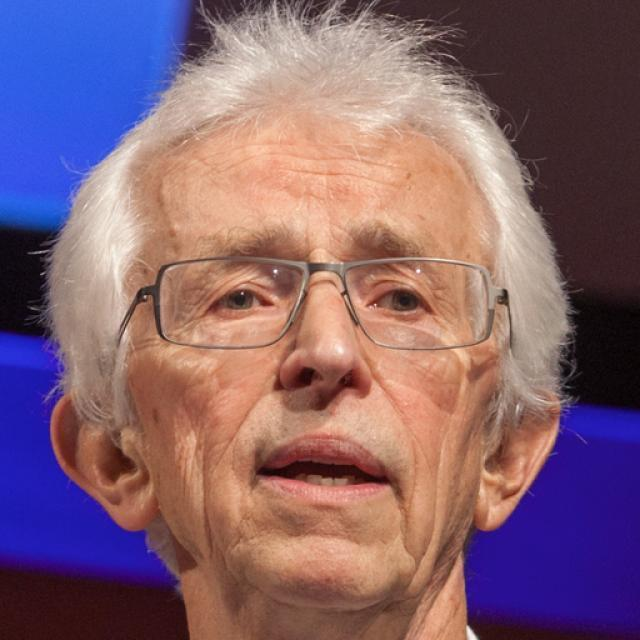0_rostro_limpio: (49, 40, 558, 610)
